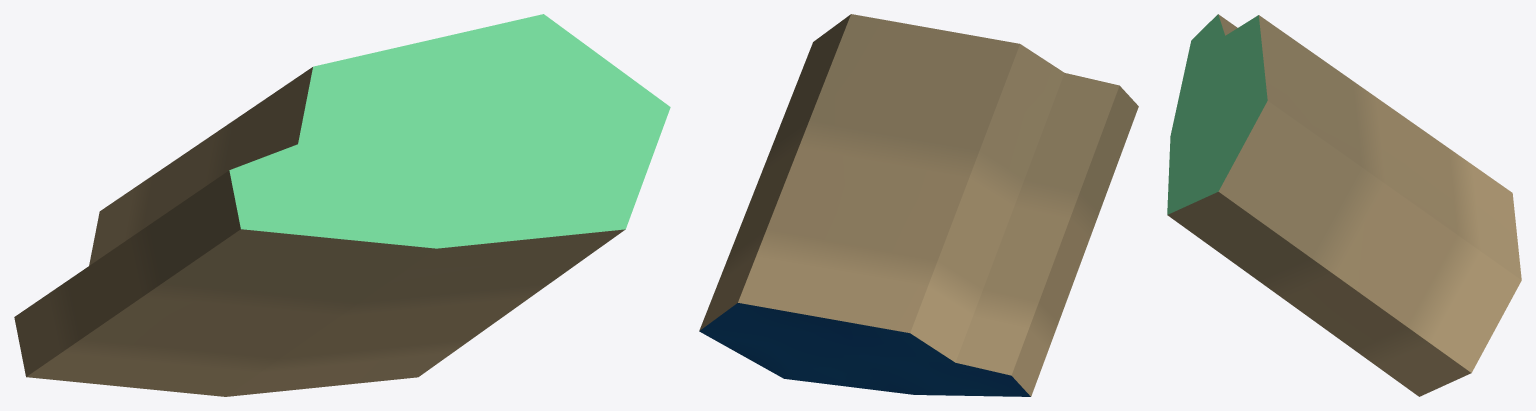
The model's file is 0675_Switzerland.glb.
The picture shows the model from 3 angles, left to right: view 1: azimuth 30°, elevation 25°; view 2: azimuth 150°, elevation 25°; view 3: azimuth 270°, elevation 25°; orthographic projection. The views are drawn at different scales.
Visible parts, largest first — view 1: part_0; view 2: part_0; view 3: part_0.
Part boxes in pixels (x1,y1,x2,y2): part_0: (14,14,670,396); part_0: (699,14,1138,396); part_0: (1167,14,1521,396).
Size of the model in its own units: 0.2304 by 0.2071 by 0.2162.
1 material, 1 textured.
